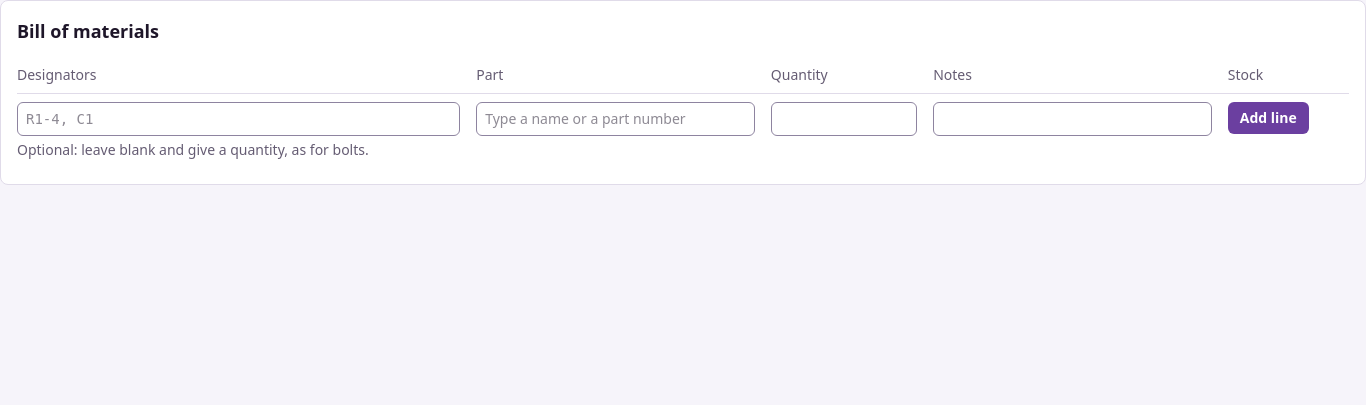
Test: BomAddRow › adds a line typed as designators, Tab, part, Enter, Enter, and is ready for the next
Click the field named "Designators".
click(239, 119)  # box [17,102,460,136]
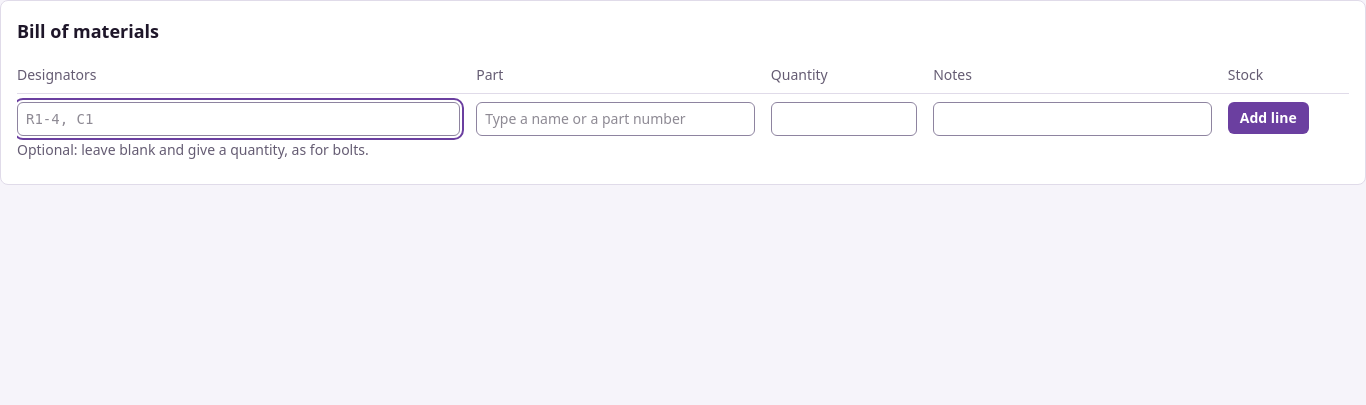
Type keys "r1-4"
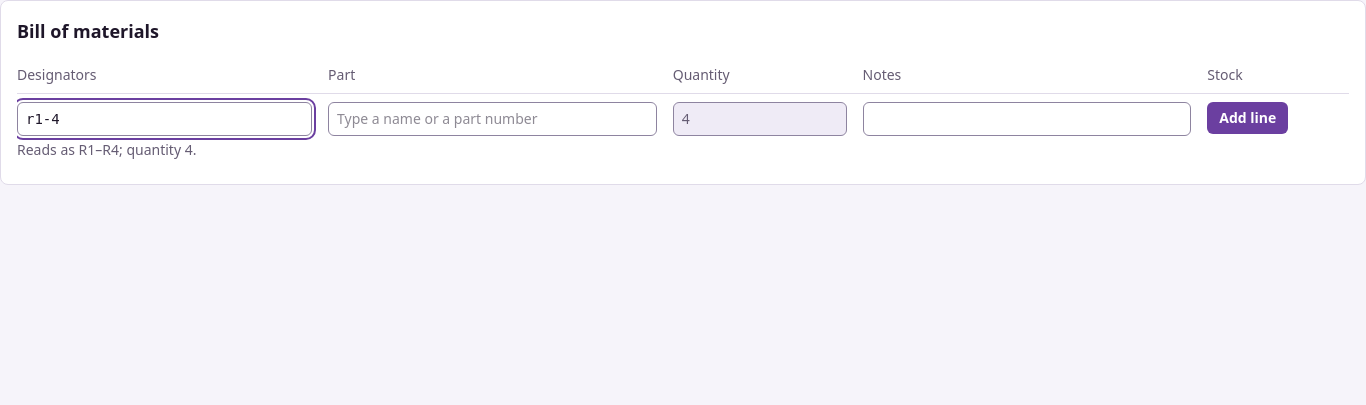
Press Tab
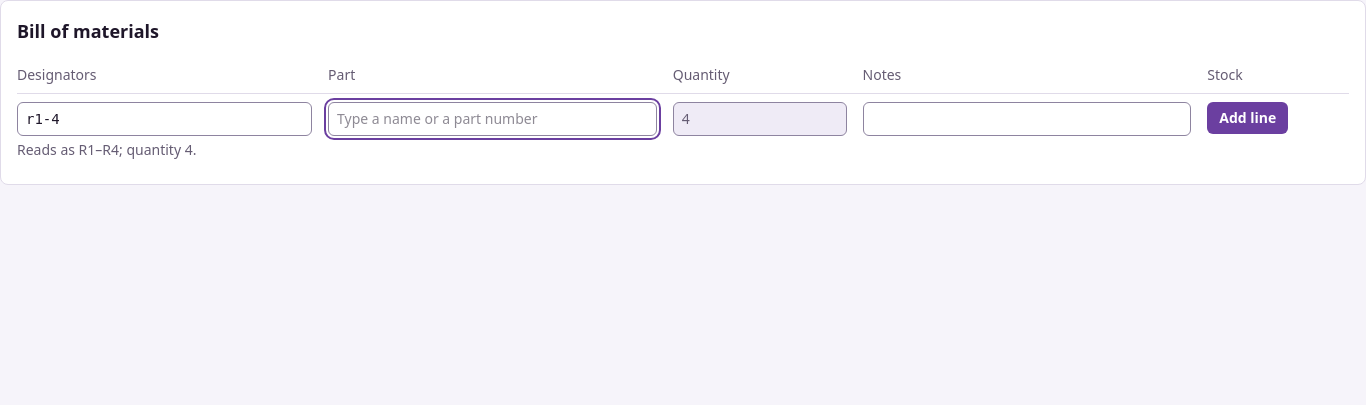
Type "4.7" into the dropdown labelled "part".
click(492, 119); type("4.7")  # box [328,102,657,136]
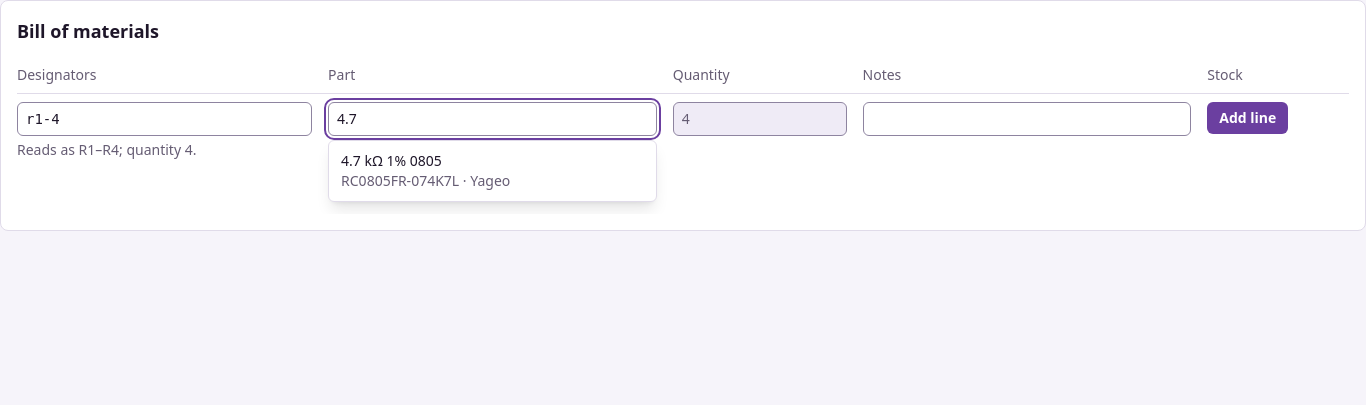
Press Arrowdown
Press Enter
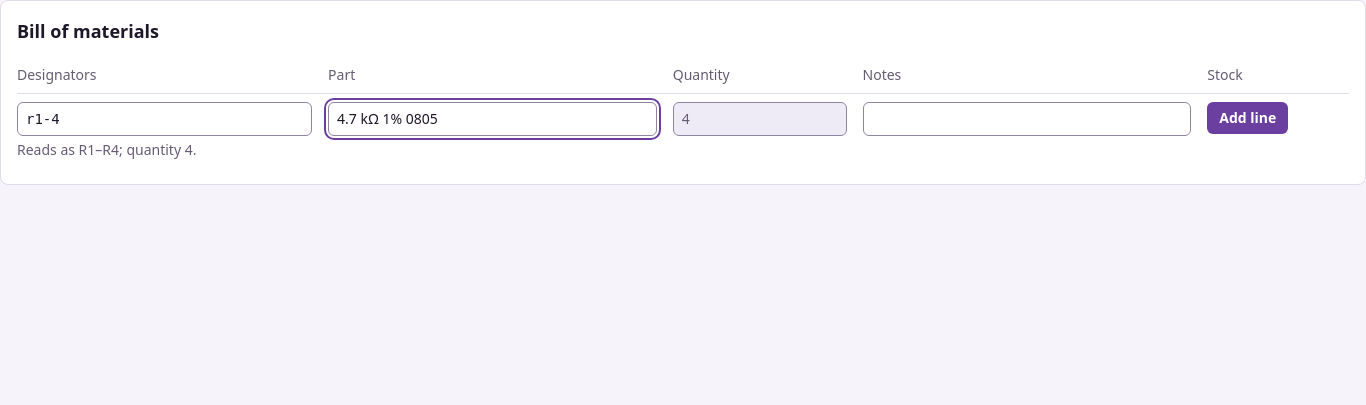
Expected: the dropdown named "part" holds "4.7 kΩ 1% 0805", [328,102,657,136]
Press Enter
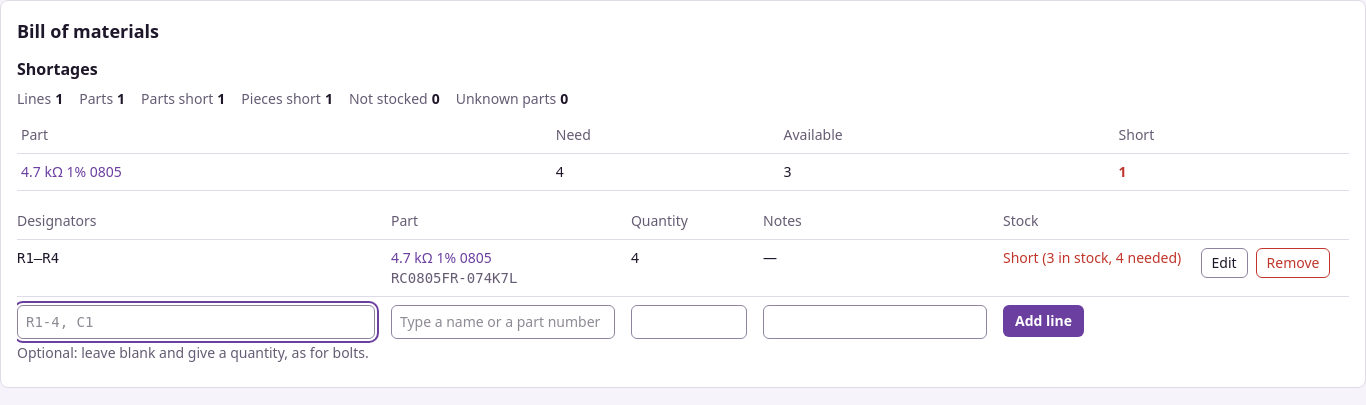
Expected: the field named "Designators" is empty, [17,305,375,339]
Expected: the dropdown labelled "part" is empty, [391,305,615,339]
Expected: the row "R1–R4" shows "Short", [1003,248,1181,267]
